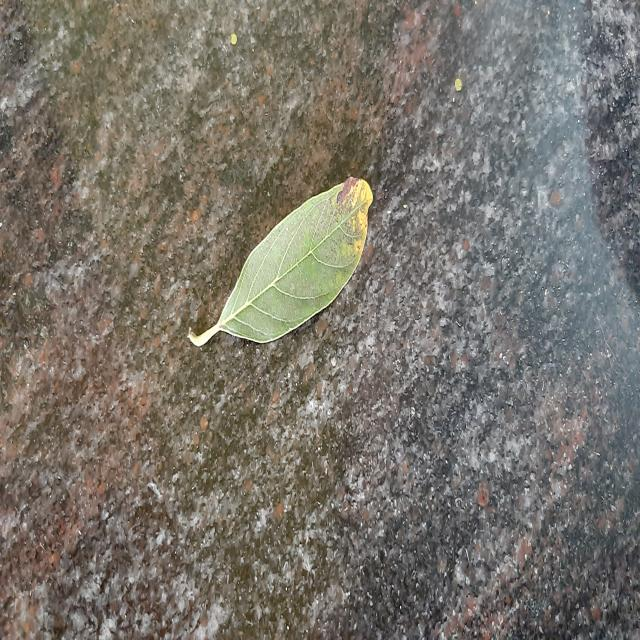seethaphala: (189, 176, 372, 347)
